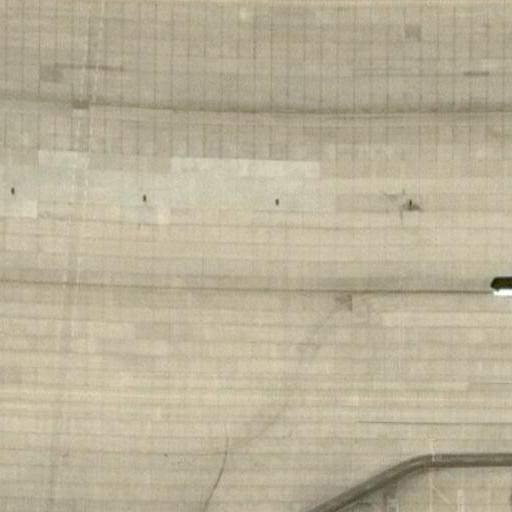Aircraft: (480, 252, 512, 309)
